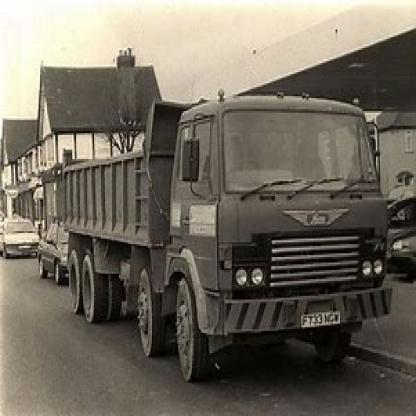dump_truck: (58, 72, 376, 372)
